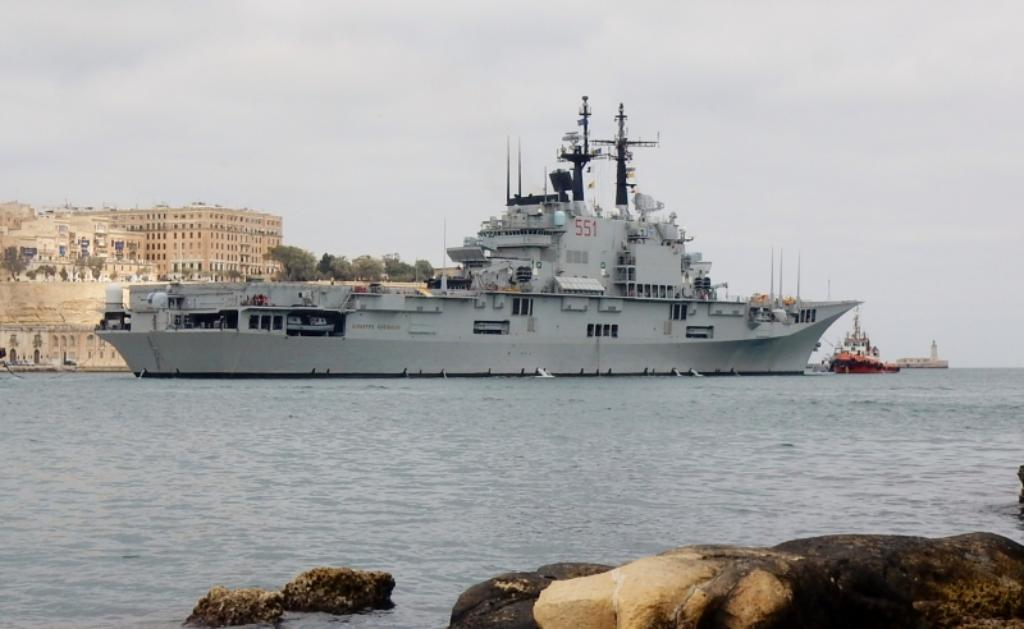Warship: (86, 88, 870, 380)
